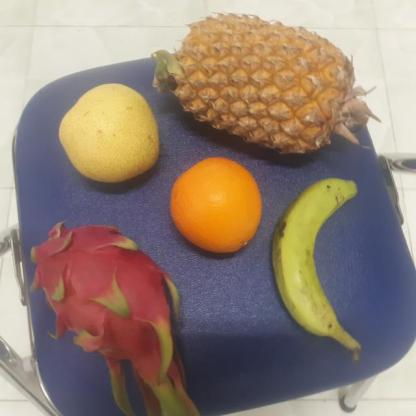banana: (265, 181, 358, 340)
guava: (53, 83, 158, 185), (166, 157, 262, 255)
pear: (55, 84, 162, 184)
pineapple: (158, 16, 360, 157)
pitaya: (25, 224, 184, 366)
